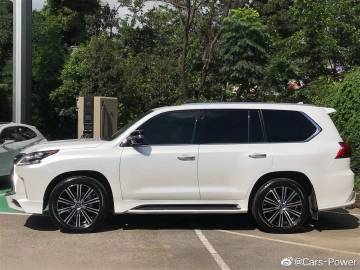other: (12, 101, 352, 236)
